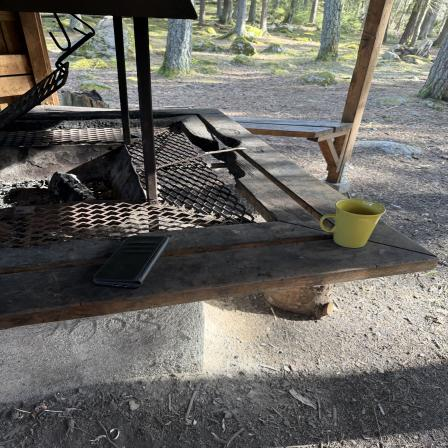phone: (93, 235, 172, 287)
yellow_cup: (318, 197, 386, 250)
